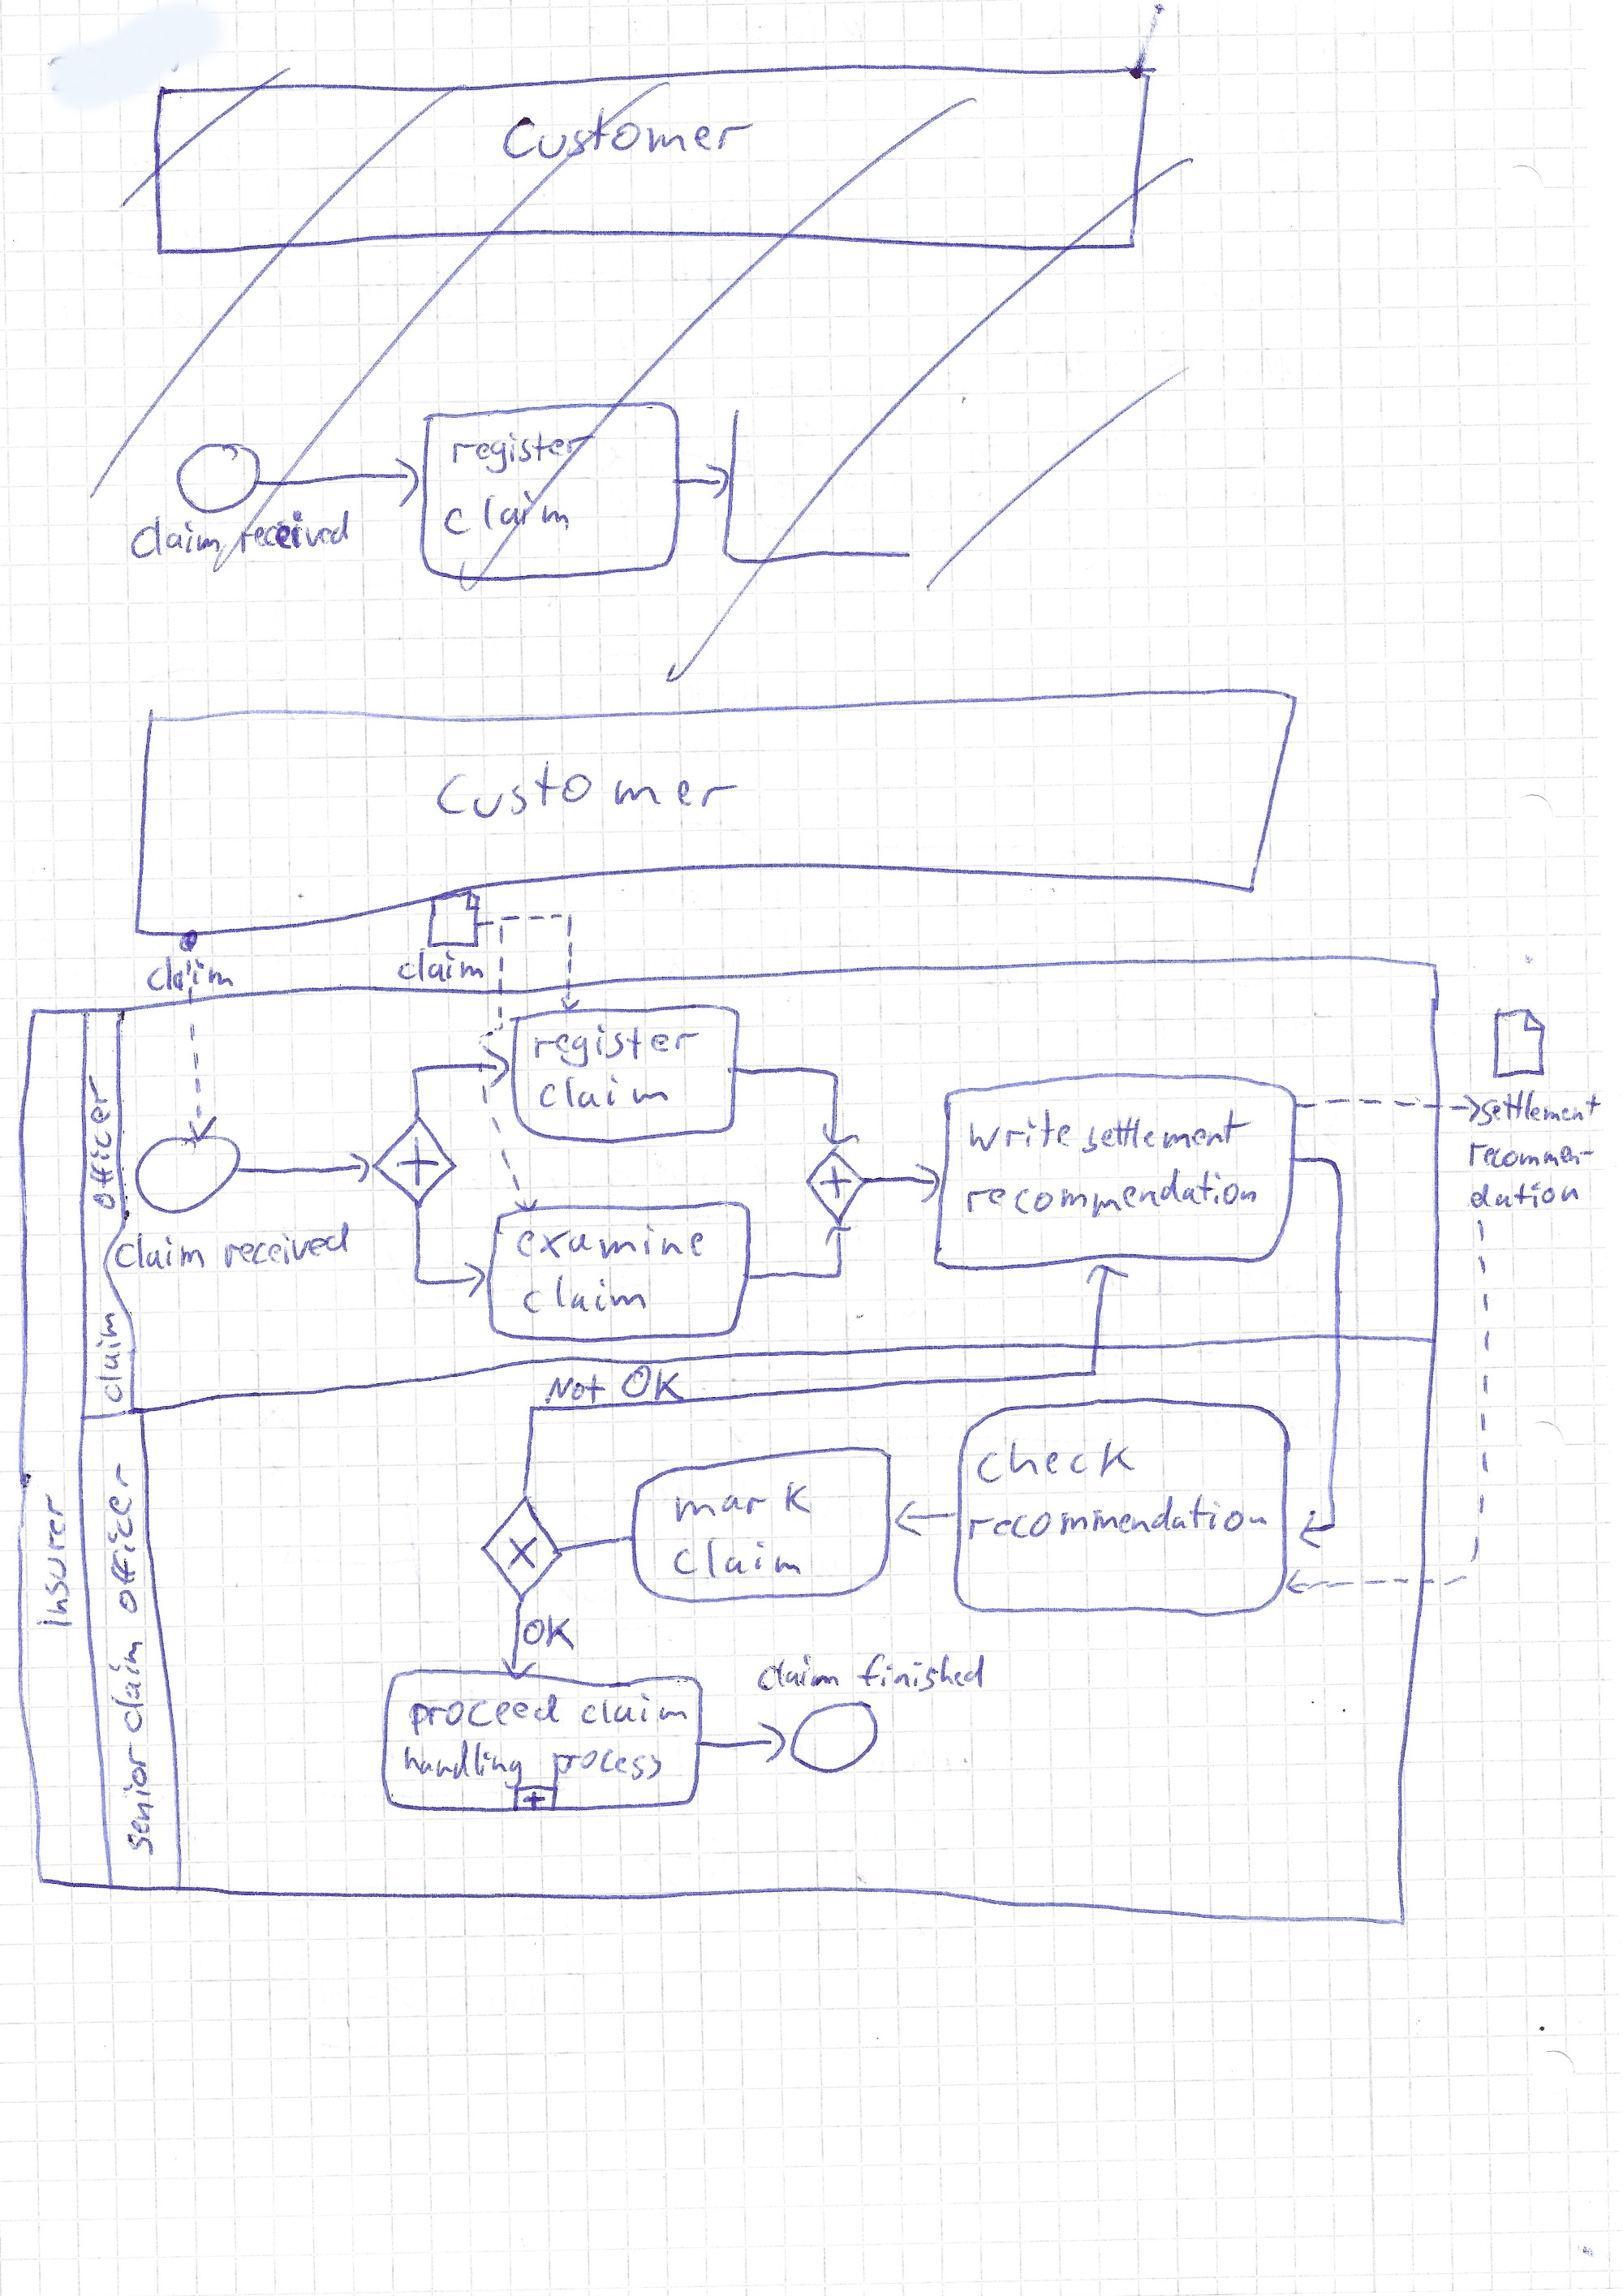Customer: (427, 753, 747, 827)
Not: (539, 1369, 613, 1408)
OK: (615, 1359, 690, 1410), (516, 1610, 581, 1657)
check: (968, 1431, 1143, 1492)
claim: (666, 1529, 810, 1589), (516, 1267, 652, 1320), (532, 1069, 674, 1116), (102, 1634, 153, 1738), (139, 948, 242, 999), (574, 1687, 694, 1731), (109, 1225, 211, 1276), (748, 1648, 847, 1697), (390, 941, 488, 987), (88, 1306, 128, 1410)
dation: (1463, 1174, 1586, 1215)
examine: (509, 1216, 711, 1266)
finished: (850, 1647, 992, 1697)
handling: (397, 1733, 529, 1796)
insurer: (28, 1487, 81, 1636)
mark: (667, 1473, 819, 1529)
officer: (100, 1457, 146, 1620), (79, 1067, 123, 1215)
proceed: (399, 1685, 567, 1741)
process: (546, 1743, 669, 1796)
received: (218, 1213, 357, 1276)
recommen-: (1461, 1137, 1600, 1174)
recommendation: (959, 1160, 1265, 1225), (961, 1489, 1275, 1548)
register: (527, 1018, 704, 1074)
senior: (116, 1736, 162, 1861)
settlement: (1073, 1102, 1259, 1160), (1472, 1085, 1607, 1132)
write: (961, 1102, 1077, 1159)
